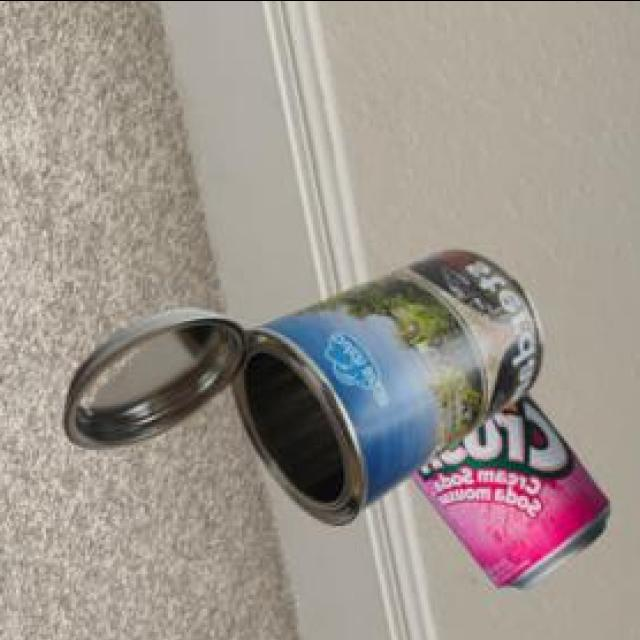logam: (68, 254, 544, 528), (416, 395, 614, 591)
